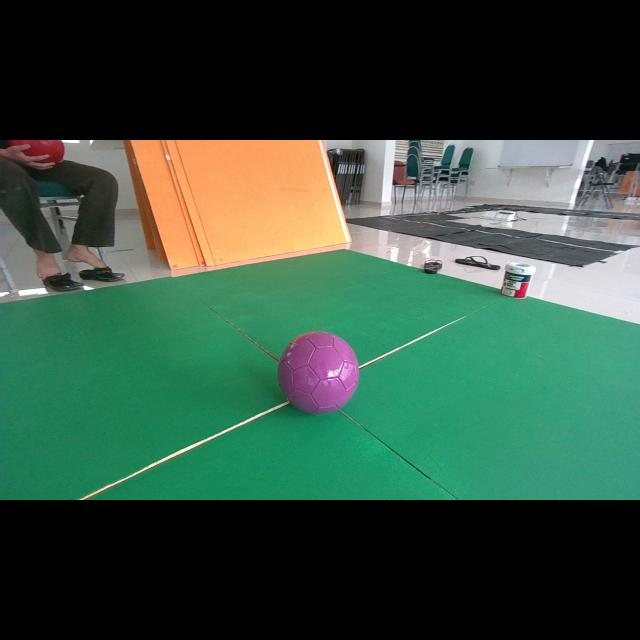P: (278, 331, 359, 414)
R: (8, 140, 65, 163)
